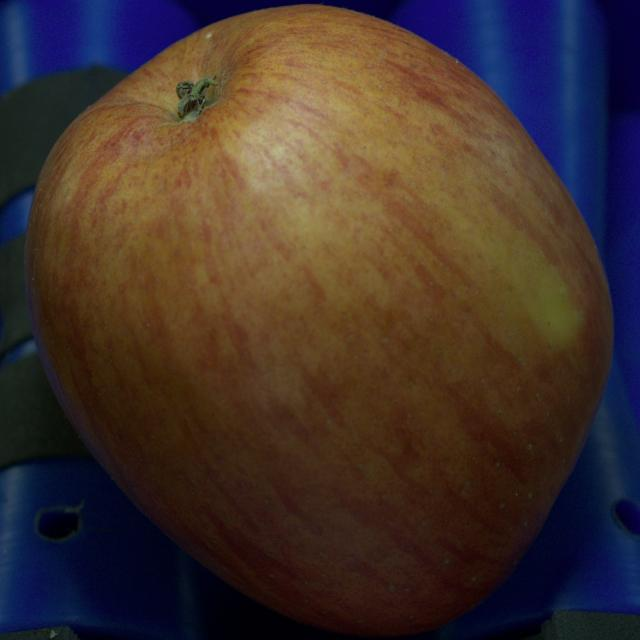apple: (24, 6, 613, 635)
bruise: (526, 262, 590, 352)
